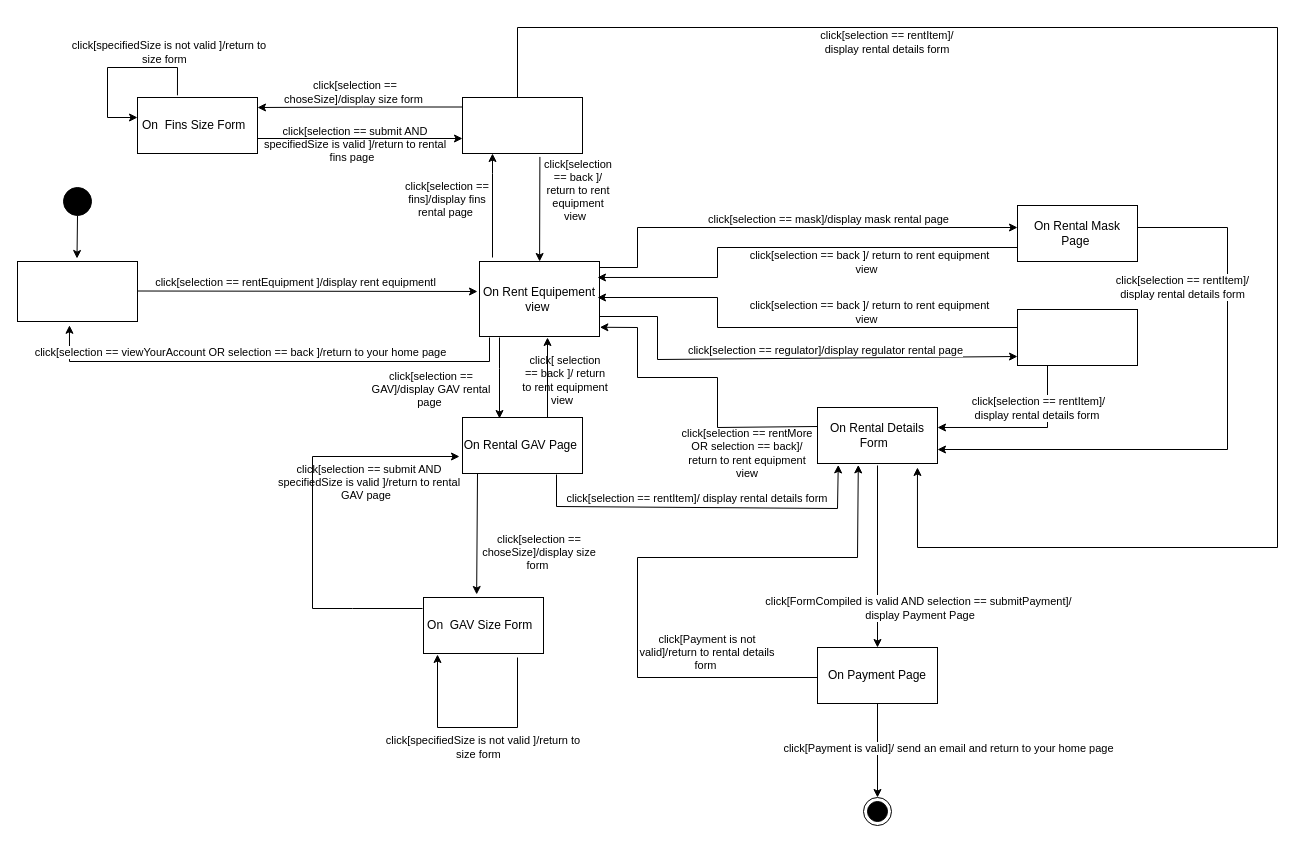
This 1303x843 diagram has some shape labels left out. Here are the shapes that lost their labels. From the top down, the box of each, then its label:
(462, 96, 582, 154): On Rental Fins Page
(16, 260, 138, 322): On Personal Home Page
(1016, 308, 1138, 366): On Rental Regulator Page
